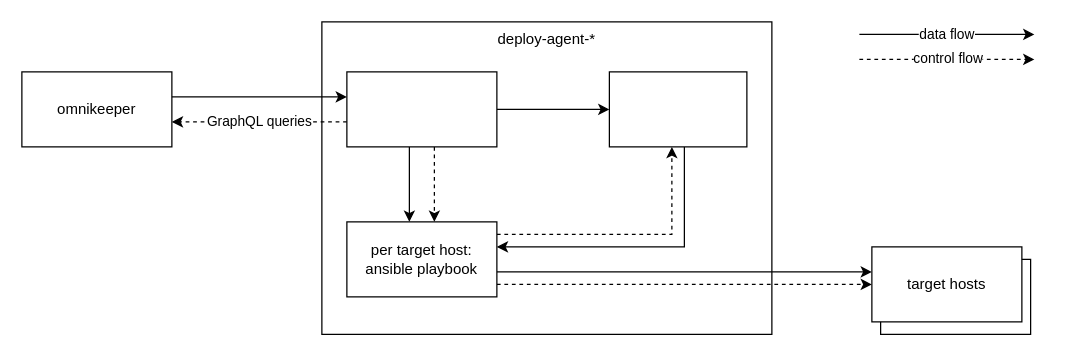
Image size: 1066x356. Some labels were removed from this diagram. Here are the shapes that lost their labels. From the top down, the centre of each, then its label:
At [421,109]: "go binary".
At [677,109]: "per target host: json file".
